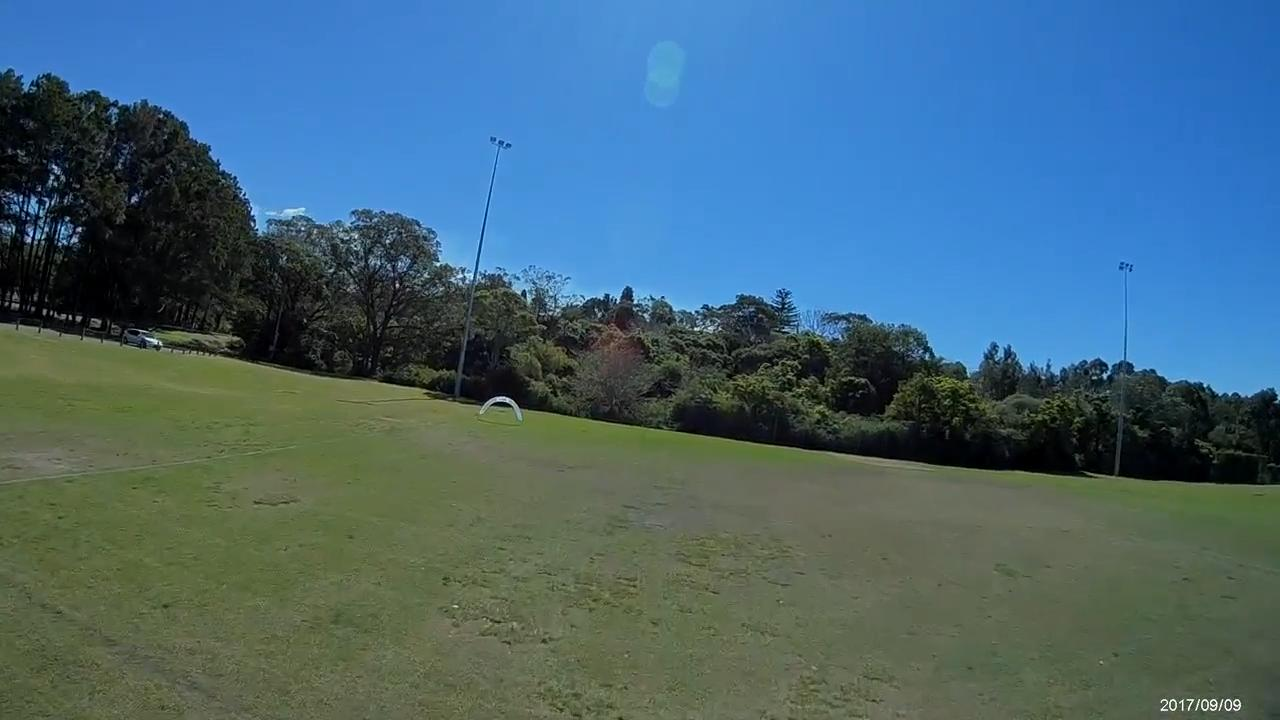gate: (479, 396, 525, 421)
